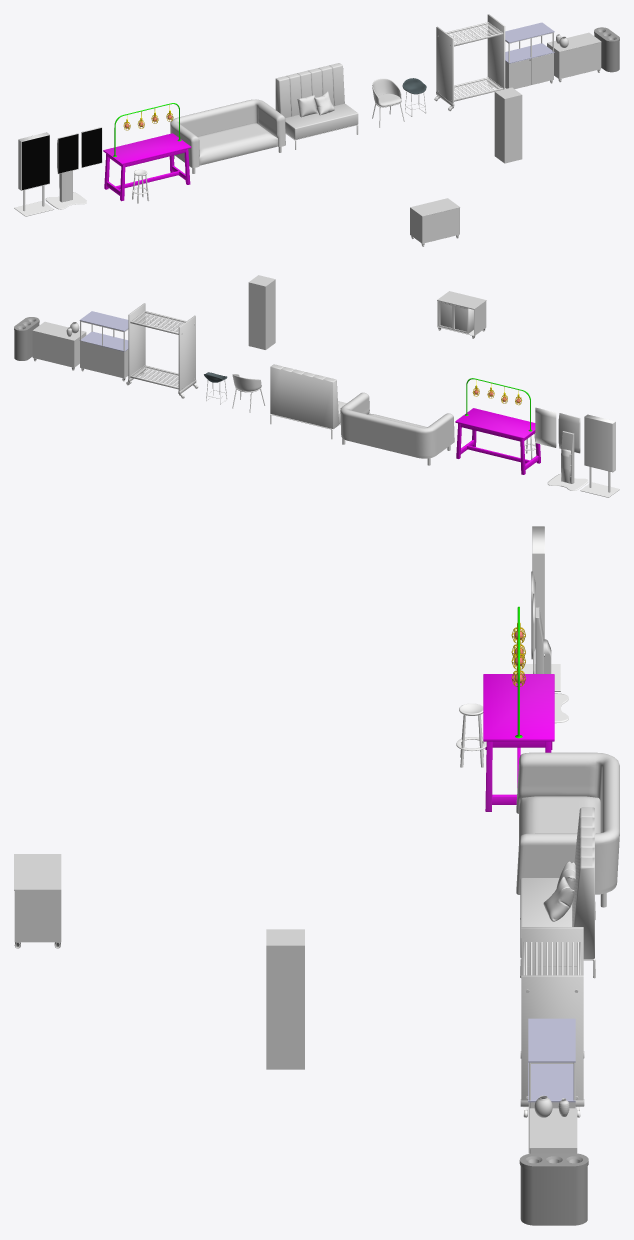
File: Furniture3.fbx
3 views of the same model, one above another, from view 1: azimuth 30°, elevation 25°; view 2: azimuth 150°, elevation 25°; view 3: azimuth 270°, elevation 25° (orthographic). The views are drawn at different scales.
Parts seen in each view (by area): view 1: Sofa_2, Sofa, CoatHangers, BarTable, Stand_High, InfoStand_3, Human_Reference, Stand_Low.001, Stand_Low, InfoStand, TrashaBin_Metal, Stool_1 (+3 smaller); view 2: Sofa_2, CoatHangers, Sofa, BarTable, Stand_High, InfoStand_3, Human_Reference, Stand_Low, InfoStand, Stand_Low.001, Stand_Low.002, TrashaBin_Metal (+3 smaller); view 3: Sofa_2, CoatHangers, BarTable, Human_Reference, TrashaBin_Metal, Sofa, Stand_Low.001, Stand_High, Stand_Low, InfoStand, InfoStand_3, Pillows.
Part boxes in pixels (x1,y1,x2,y2): Sofa_2: (170, 99, 285, 173); Sofa: (275, 63, 358, 149); CoatHangers: (434, 14, 505, 111); BarTable: (103, 103, 191, 201); Stand_High: (505, 22, 554, 88); InfoStand_3: (14, 132, 53, 216); Human_Reference: (494, 87, 522, 163); Stand_Low.001: (410, 198, 460, 246); Stand_Low: (547, 32, 601, 82); InfoStand: (45, 133, 86, 209); TrashaBin_Metal: (594, 27, 619, 72); Stool_1: (372, 78, 404, 127); Sofa_2: (340, 392, 454, 465); CoatHangers: (126, 303, 198, 398); Sofa: (270, 364, 346, 439); BarTable: (455, 378, 540, 474); Stand_High: (79, 311, 128, 381); InfoStand_3: (580, 414, 619, 497); Human_Reference: (248, 275, 275, 349); Stand_Low: (32, 321, 86, 370); InfoStand: (547, 413, 588, 490); Stand_Low.001: (437, 291, 486, 338); Stand_Low.002: (438, 301, 473, 333); TrashaBin_Metal: (14, 317, 39, 360); Sofa_2: (516, 752, 619, 907); CoatHangers: (520, 927, 584, 1117); BarTable: (483, 606, 554, 811); Human_Reference: (266, 929, 304, 1069); TrashaBin_Metal: (519, 1153, 588, 1225); Sofa: (520, 807, 595, 978); Stand_Low.001: (14, 854, 61, 948); Stand_High: (528, 1018, 575, 1153); Stand_Low: (529, 1108, 577, 1153); InfoStand: (531, 571, 568, 723); InfoStand_3: (516, 526, 560, 691); Pillows: (543, 861, 575, 921).
Size of the model in its own units: 1700 by 211 by 777.
